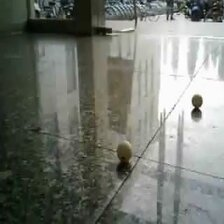w: (115, 139, 135, 163), (191, 94, 204, 109)
